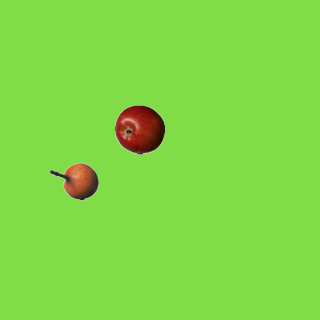Apple Braeburn: (114, 104, 164, 154)
Granadilla: (48, 156, 98, 206)
